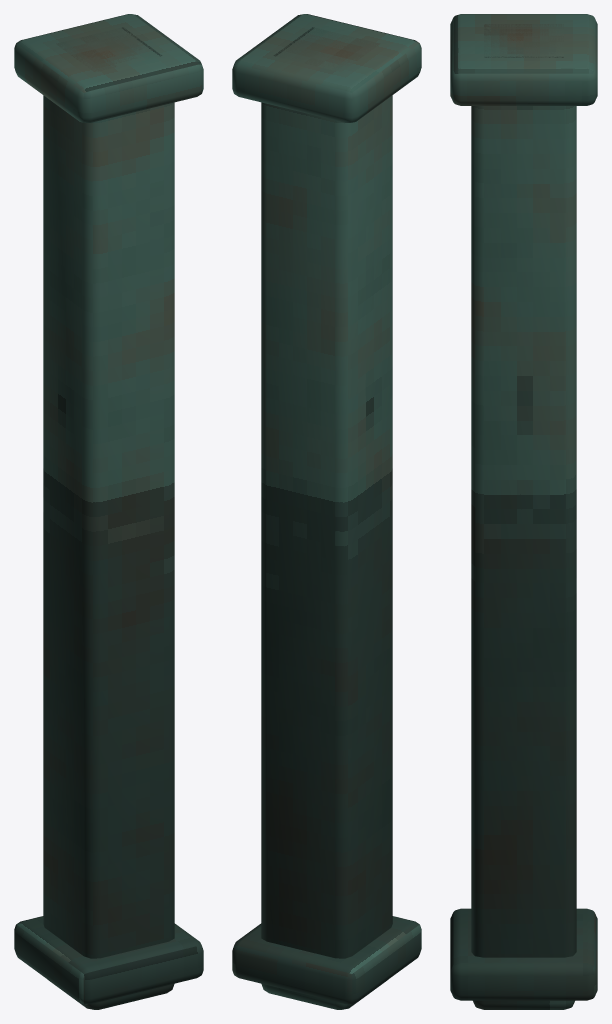
File: ward_bars_post.obj
The picture shows the model from 3 angles, left to right: view 1: azimuth 30°, elevation 25°; view 2: azimuth 150°, elevation 25°; view 3: azimuth 270°, elevation 25°; orthographic projection.
Parts seen in each view (by area): view 1: part0; view 2: part0; view 3: part0.
Part boxes in pixels (bbox=[...]): part0: bbox=[14, 14, 203, 1009]; part0: bbox=[232, 14, 421, 1009]; part0: bbox=[450, 14, 597, 1009].
Size of the model in its own units: 0.14 by 1 by 0.14.
